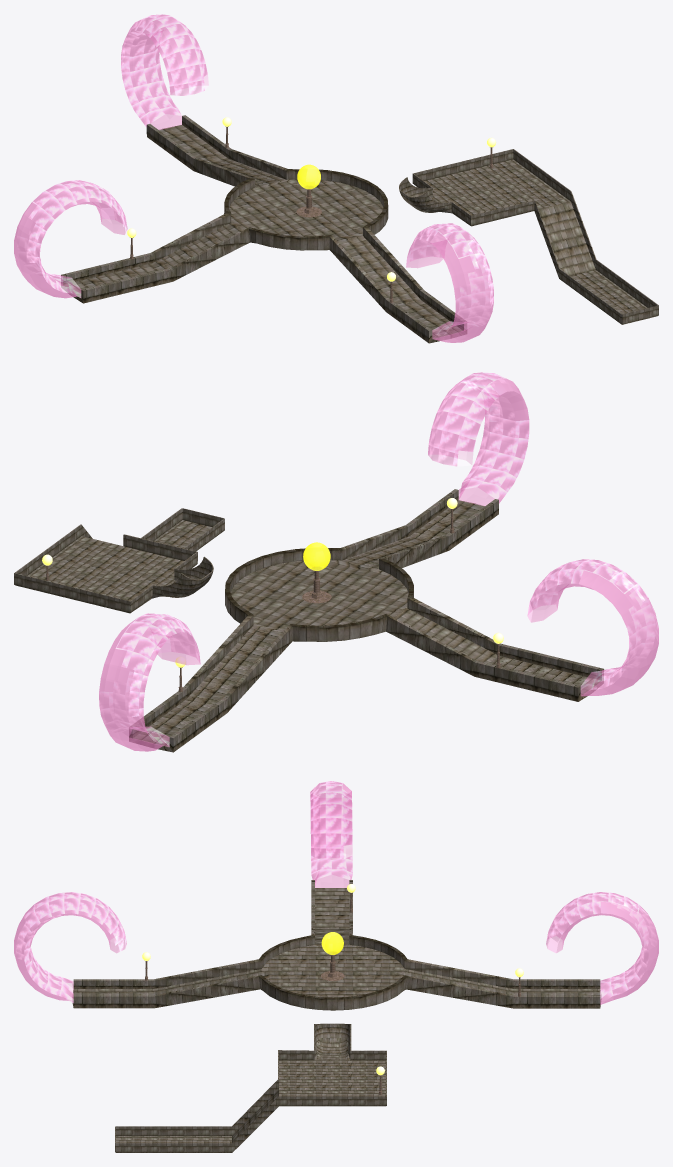
Rendered from loops.gltf.
3 views of the same model, one above another, from view 1: azimuth 30°, elevation 25°; view 2: azimuth 150°, elevation 25°; view 3: azimuth 270°, elevation 25° (orthographic). The views are drawn at different scales.
Parts seen in each view (by area): view 1: Platform2-col, Platform1-col, Loop3-col, Loop1-col, Loop2-col, StrLmp1_Lamp.001-col; view 2: Platform2-col, Platform1-col, Loop1-col, Loop3-col, Loop2-col, StrLmp1_Lamp.001-col; view 3: Platform2-col, Platform1-col, Loop1-col, Loop3-col, Loop2-col.
Boxes of the visible parts, left/top/right/bottom form: Platform2-col: left=61, top=115, right=466, bottom=343; Platform1-col: left=399, top=149, right=658, bottom=324; Loop3-col: left=121, top=14, right=208, bottom=130; Loop1-col: left=406, top=223, right=493, bottom=342; Loop2-col: left=14, top=180, right=127, bottom=298; StrLmp1_Lamp.001-col: left=297, top=164, right=320, bottom=189; Platform2-col: left=129, top=489, right=604, bottom=752; Platform1-col: left=14, top=508, right=224, bottom=613; Loop1-col: left=428, top=372, right=529, bottom=506; Loop3-col: left=99, top=613, right=200, bottom=751; Loop2-col: left=527, top=559, right=658, bottom=696; StrLmp1_Lamp.001-col: left=303, top=542, right=330, bottom=570; Platform2-col: left=72, top=880, right=601, bottom=1010; Platform1-col: left=115, top=1023, right=386, bottom=1152; Loop1-col: left=14, top=892, right=126, bottom=1003; Loop3-col: left=546, top=892, right=658, bottom=1004; Loop2-col: left=310, top=781, right=352, bottom=887.
Size of the model in its own units: 147 by 43.58 by 168.
9 materials, 8 textured.
